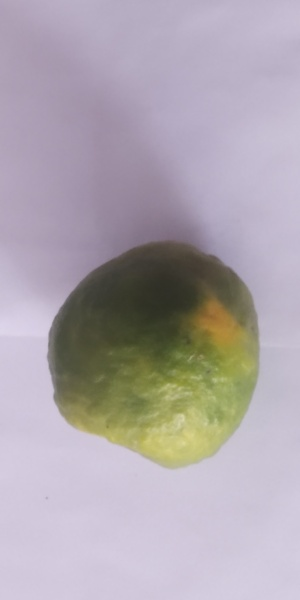BAD: (42, 241, 258, 468)
